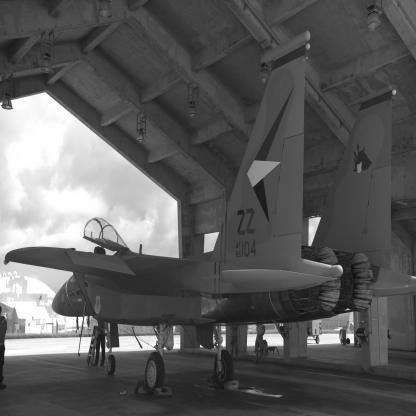F15: (4, 31, 416, 396)
